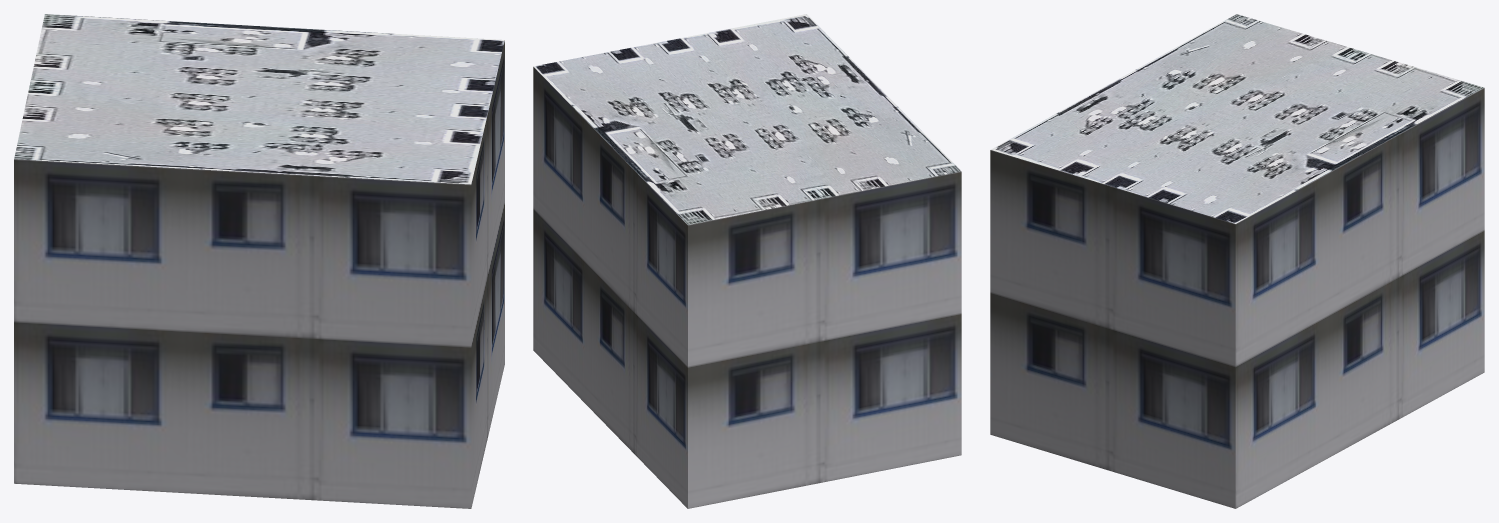
The model's file is ResTex__3968.fbx.
3 renders of one model, left to right at view 1: azimuth 30°, elevation 25°; view 2: azimuth 150°, elevation 25°; view 3: azimuth 270°, elevation 25°, orthographic. The views are drawn at different scales.
Parts seen in each view (by area): view 1: CityEngineMaterial_9_m, CityEngineMaterial_m; view 2: CityEngineMaterial_9_m, CityEngineMaterial_m; view 3: CityEngineMaterial_9_m, CityEngineMaterial_m.
Boxes of the visible parts, x1=… form: CityEngineMaterial_9_m: x1=14, y1=40, x2=504, y2=508; CityEngineMaterial_m: x1=14, y1=14, x2=504, y2=184; CityEngineMaterial_9_m: x1=533, y1=67, x2=961, y2=508; CityEngineMaterial_m: x1=533, y1=14, x2=961, y2=224; CityEngineMaterial_9_m: x1=990, y1=88, x2=1484, y2=508; CityEngineMaterial_m: x1=991, y1=14, x2=1483, y2=223.
Size of the model in its own units: 9.49 by 6 by 9.43.
Materials: 2 (2 with a texture image).
